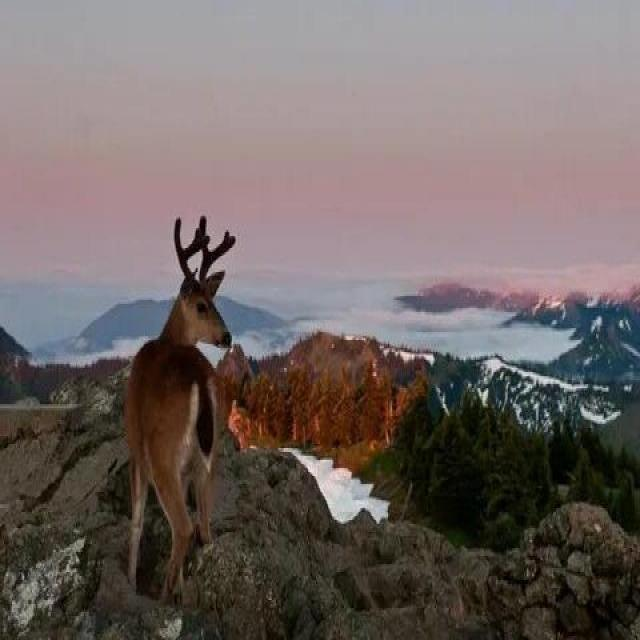deer: (76, 233, 290, 570)
